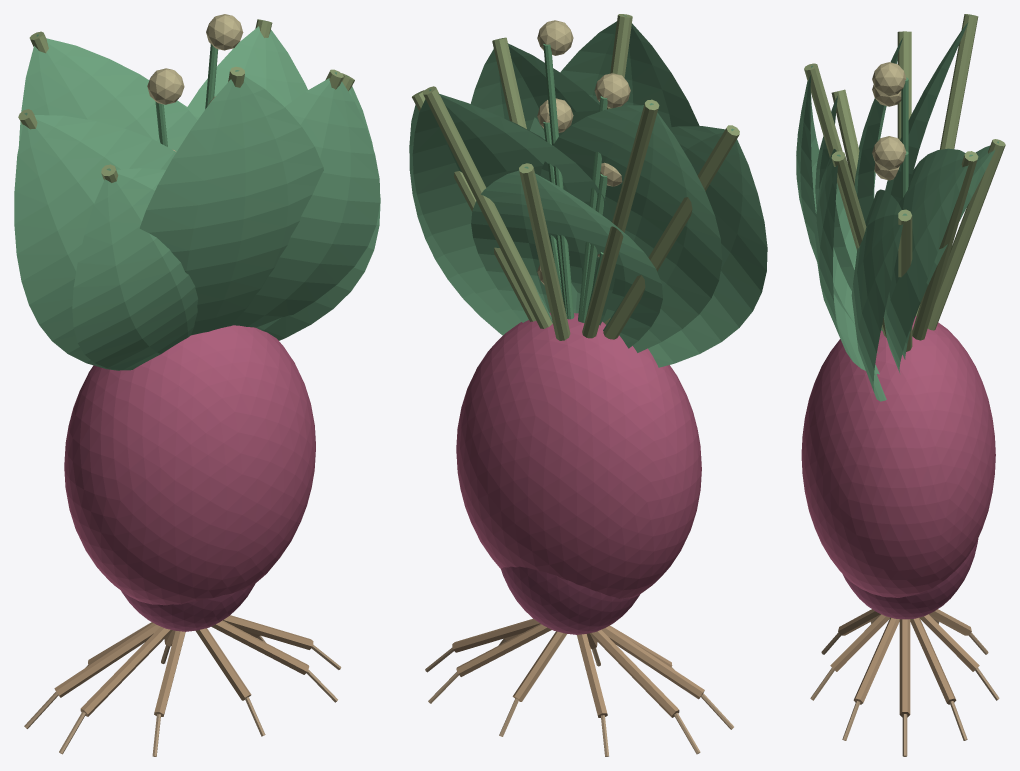
The model's file is 49_Shoradoshlar.glb.
3 views of the same model, side by side, from view 1: azimuth 30°, elevation 25°; view 2: azimuth 150°, elevation 25°; view 3: azimuth 270°, elevation 25° (orthographic). The views are drawn at different scales.
Parts seen in each view (by area): view 1: leaf, root, stem, flower; view 2: root, leaf, stem, flower; view 3: root, leaf, stem, flower.
Part boxes in pixels (box(x1,y1,x2,y2)): leaf: box(14, 26, 380, 370); root: box(24, 325, 341, 756); stem: box(18, 19, 354, 182); flower: box(147, 14, 243, 151); root: box(425, 312, 733, 756); leaf: box(409, 21, 767, 367); stem: box(412, 14, 739, 340); flower: box(537, 20, 630, 284); root: box(801, 316, 999, 756); leaf: box(796, 22, 995, 401); stem: box(804, 14, 1005, 351); flower: box(872, 62, 906, 180).
Bounding box in the file's own units: 1.24 × 2.25 × 0.6689.
